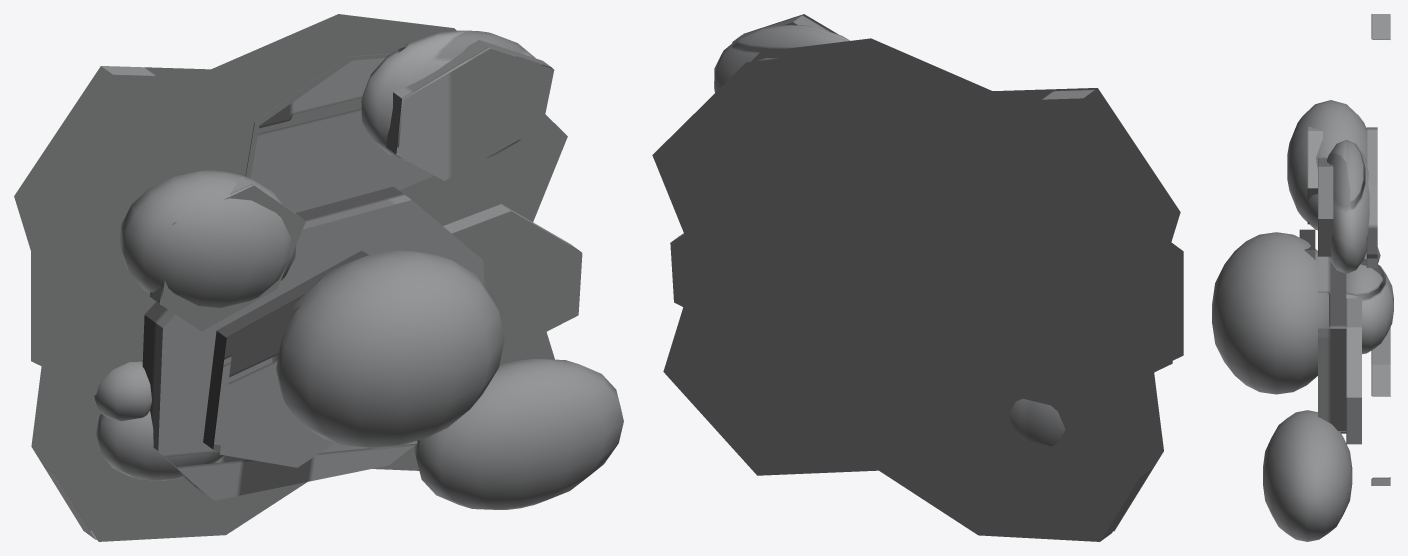
3 views of the same model, side by side, from view 1: azimuth 30°, elevation 25°; view 2: azimuth 150°, elevation 25°; view 3: azimuth 270°, elevation 25° (orthographic). The views are drawn at different scales.
Size of the model in its own units: 0.9557 by 0.8036 by 0.351.
